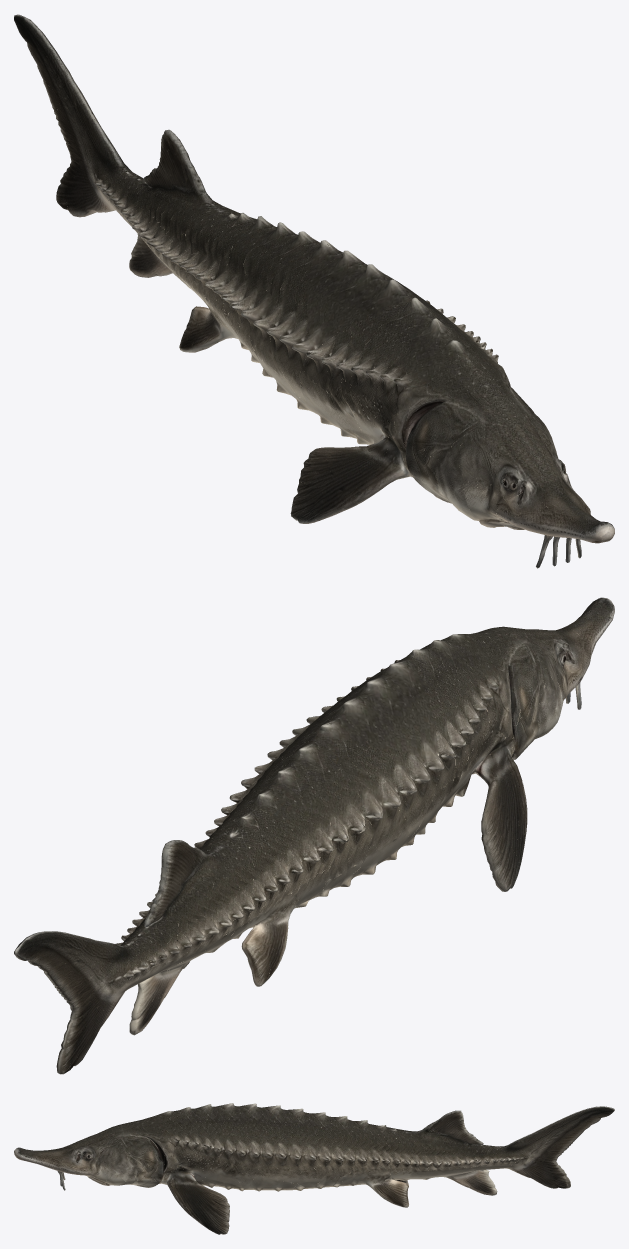
The model's file is jesiotr.glb.
The picture shows the model from 3 angles, top to bottom: view 1: azimuth 30°, elevation 25°; view 2: azimuth 150°, elevation 25°; view 3: azimuth 270°, elevation 25°; orthographic projection. The views are drawn at different scales.
Parts seen in each view (by area): view 1: Mesh_0; view 2: Mesh_0; view 3: Mesh_0.
Part boxes in pixels (<box>): Mesh_0: <box>14,14,614,568</box>; Mesh_0: <box>14,597,614,1074</box>; Mesh_0: <box>14,1103,614,1234</box>.
Bounding box in the file's own units: 0.4023 × 0.3691 × 1.9.
Materials: 1 (1 with a texture image).
